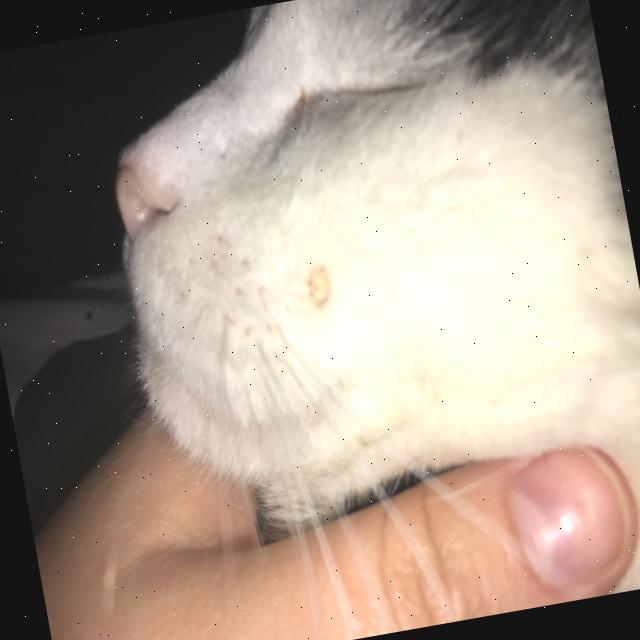cat-lump-and-bump: (299, 258, 338, 314)
